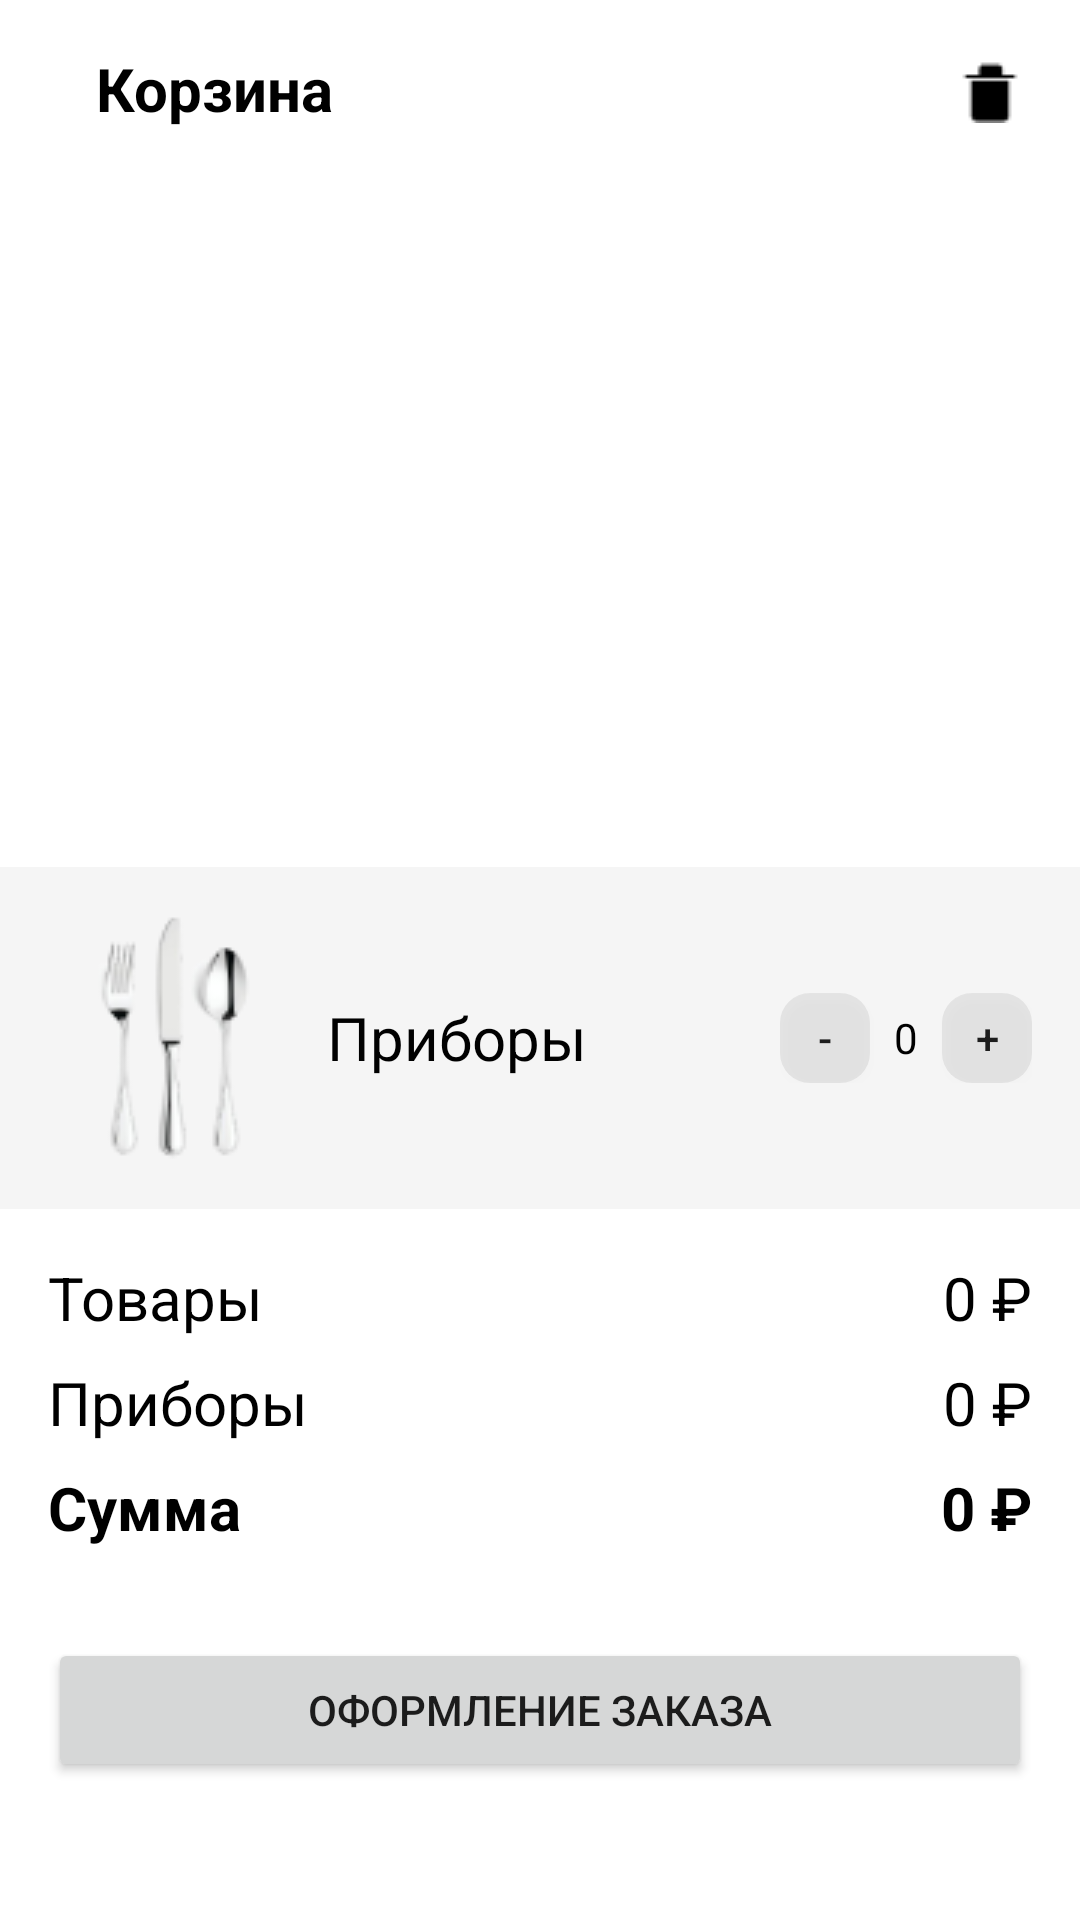

Where to tap for icons on this 1080*1920 app screen, as point (x, y):
table tools: point (174, 1036)
trash: point (990, 92)
